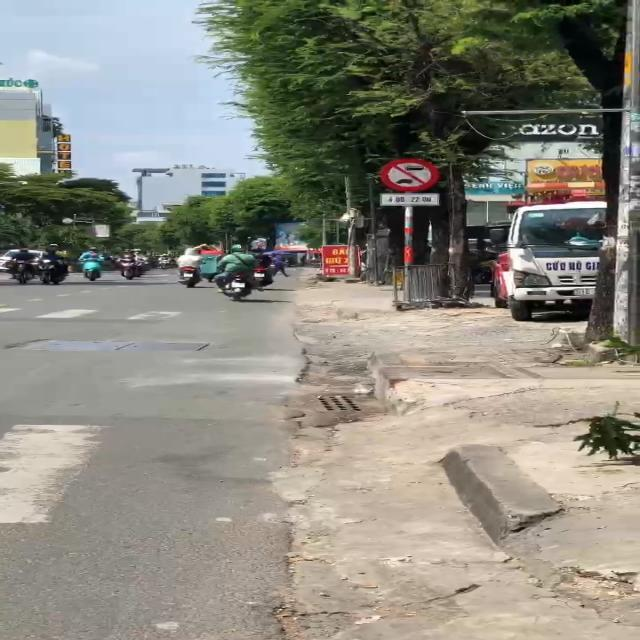Bien bao cam xe oto khach va xe oto tai: (376, 156, 440, 192)
